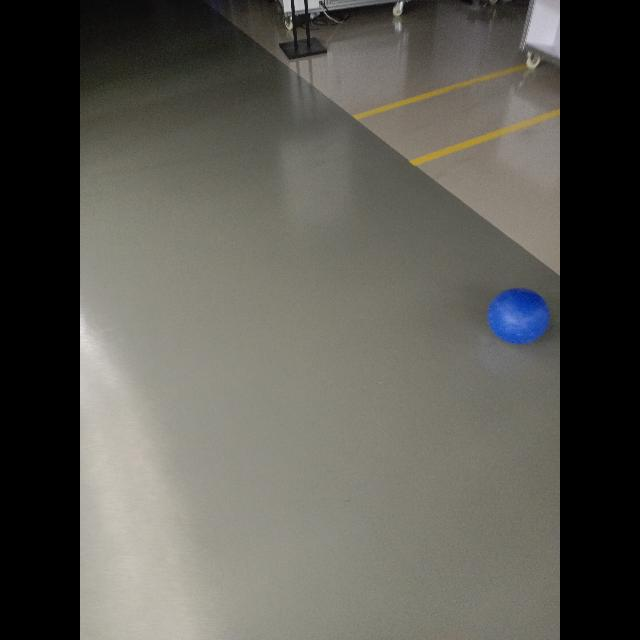B: (486, 286, 550, 348)
